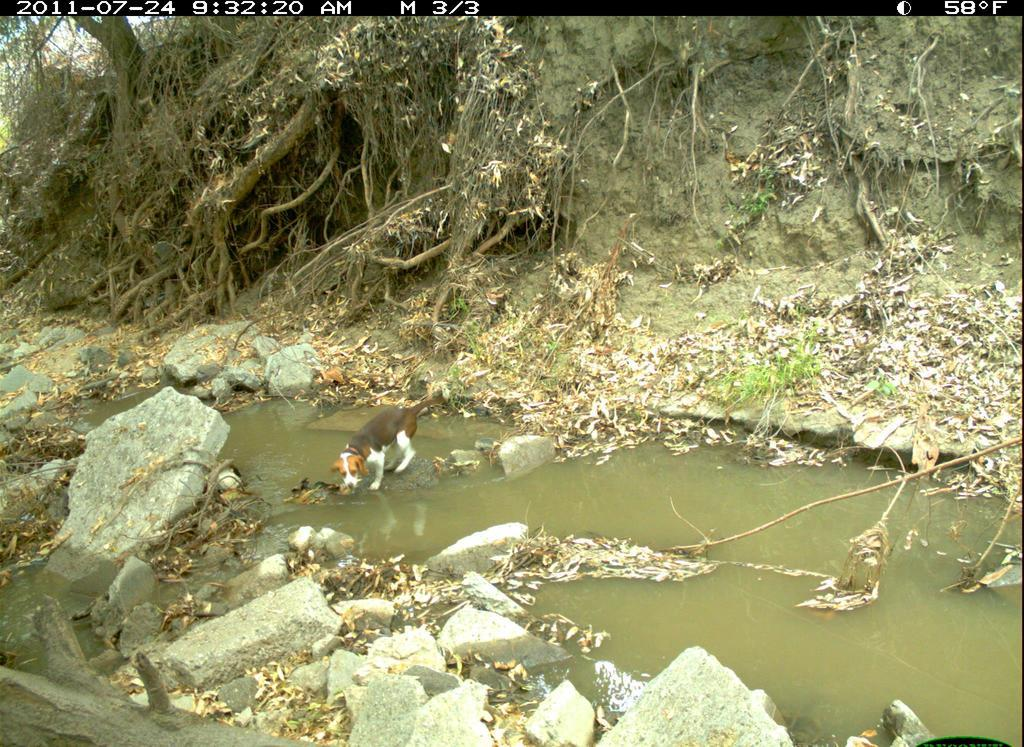dog: (314, 383, 460, 505)
